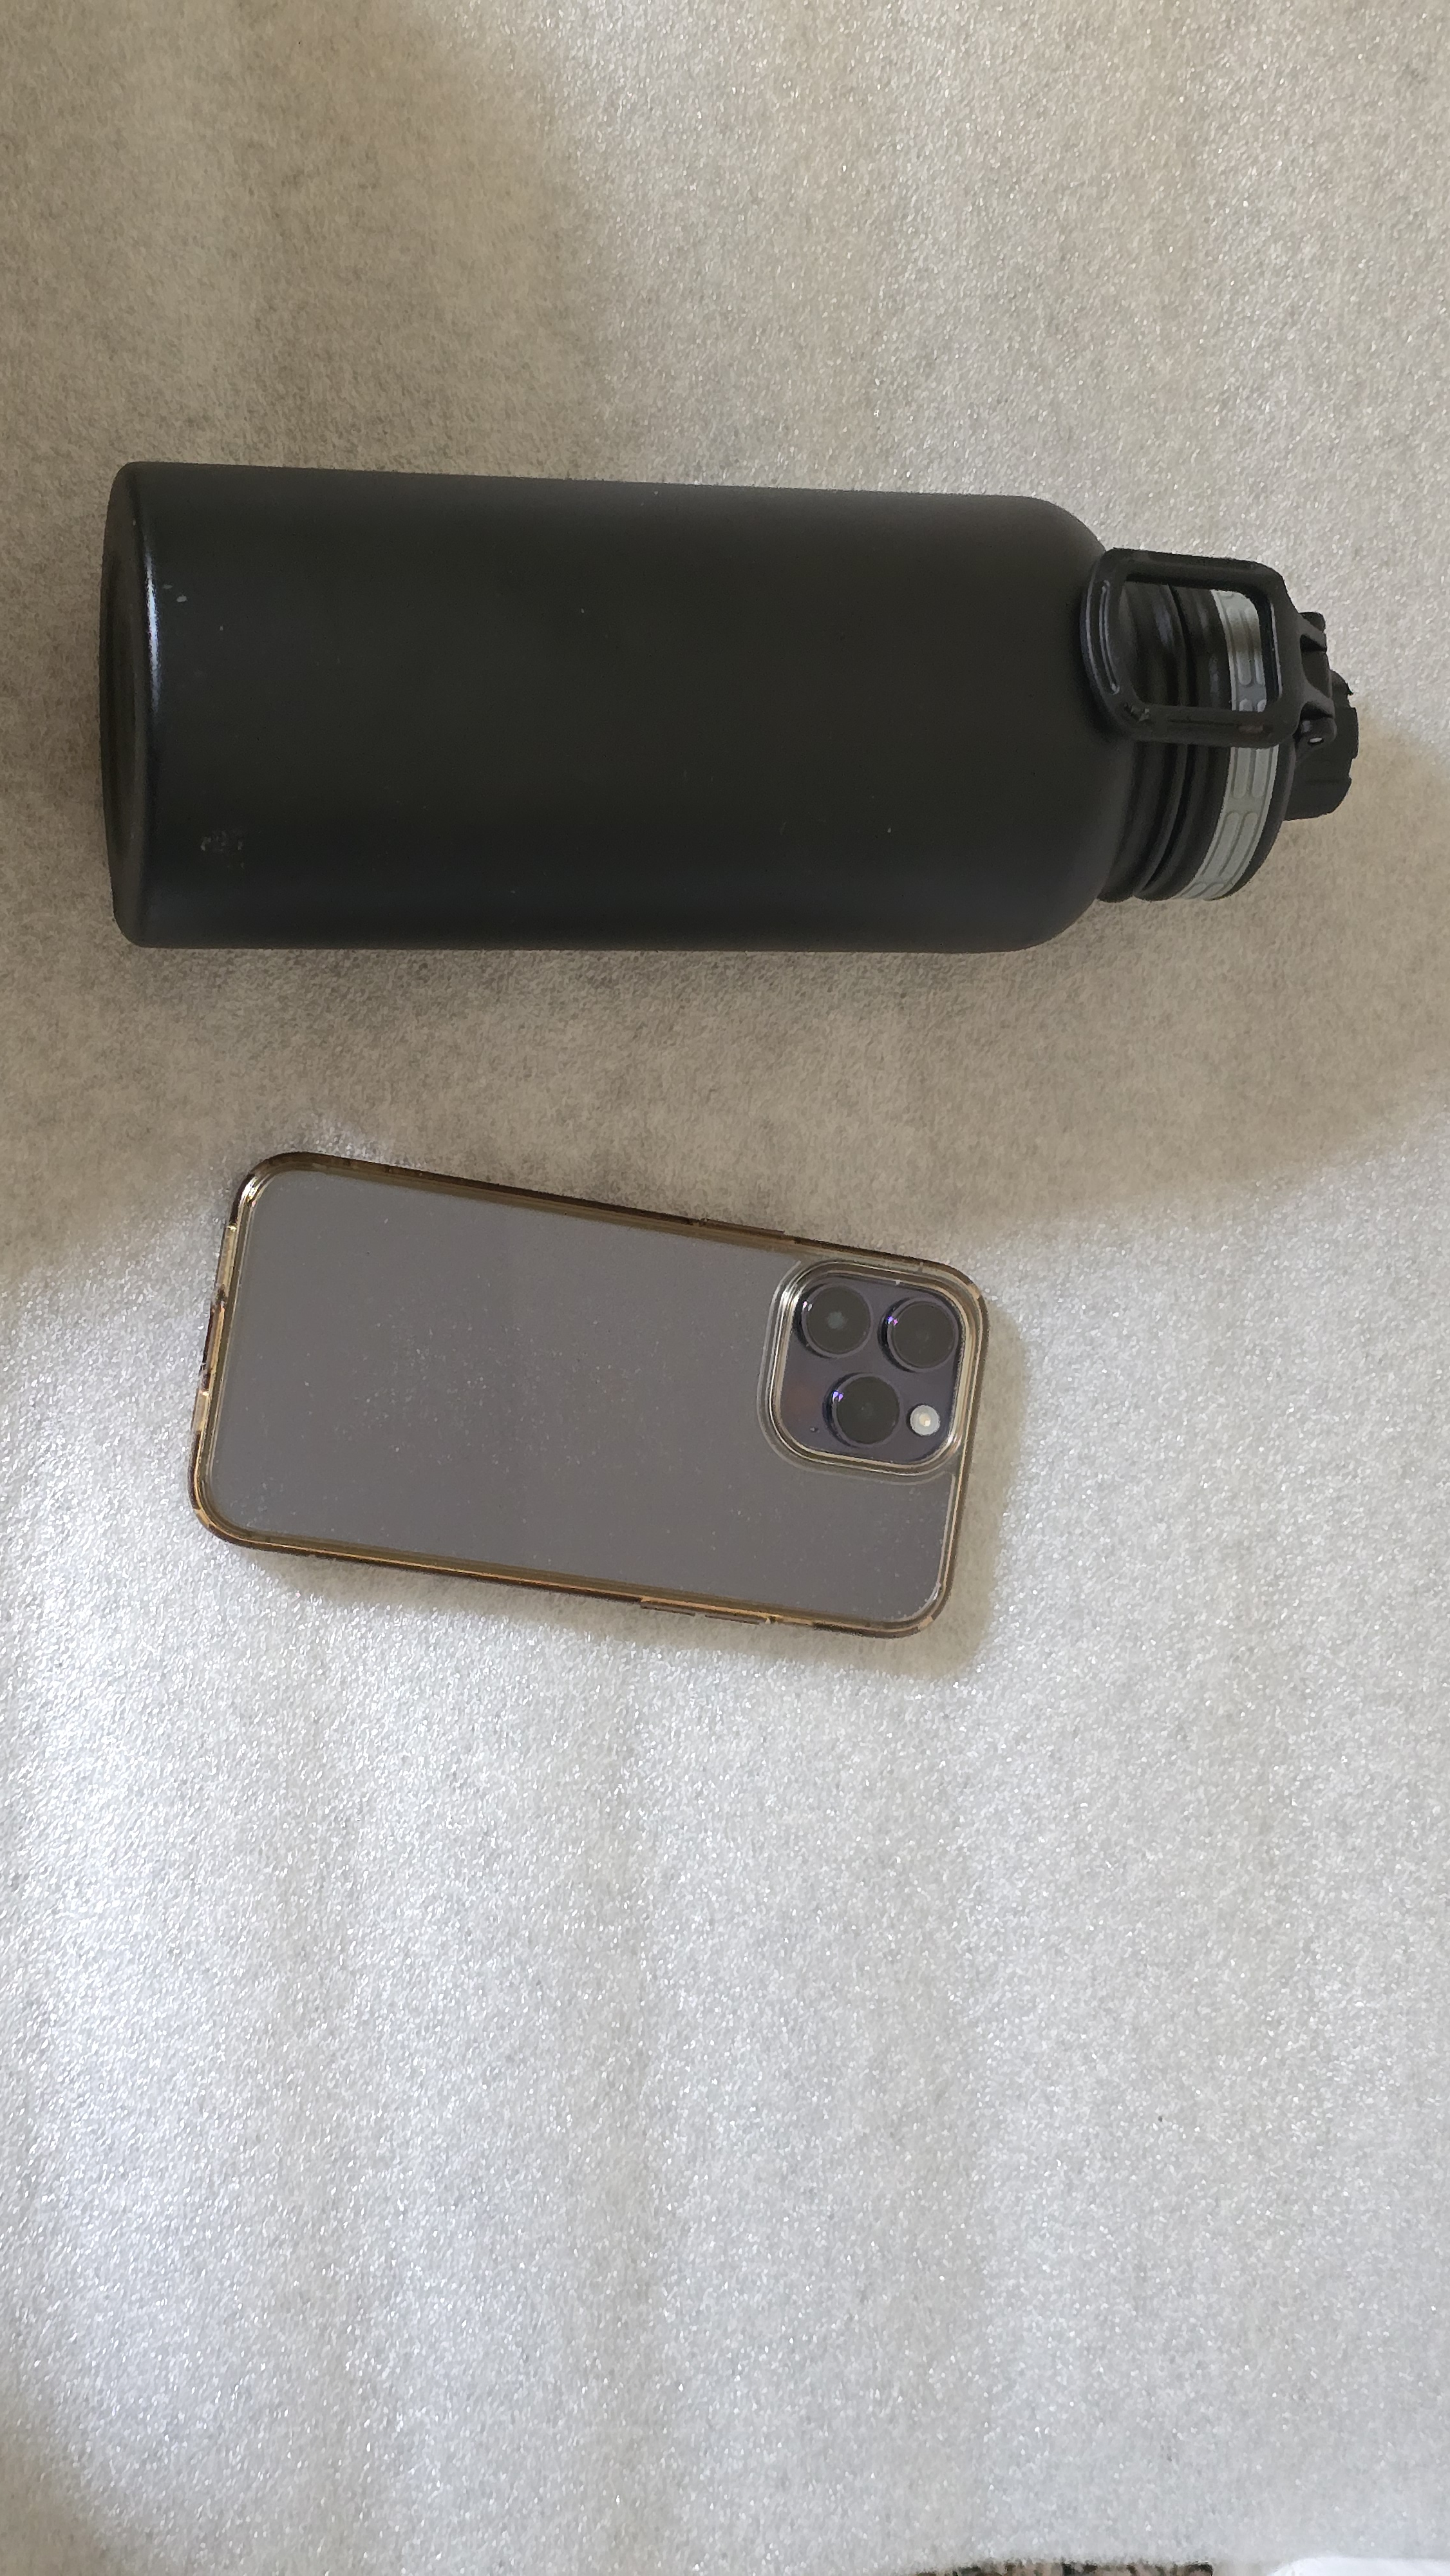bottle: (44, 396, 1376, 985)
